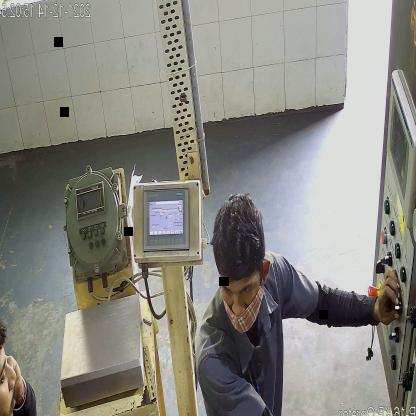no_goggles: (219, 275, 260, 304)
